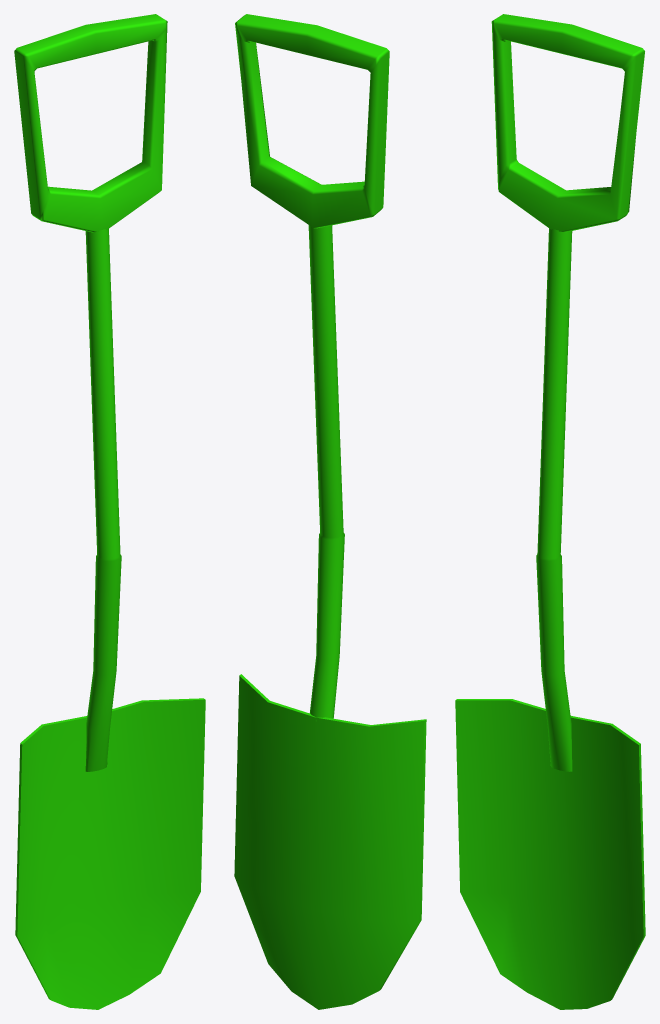
File: Shovel_02_Lod0.fbx
The picture shows the model from 3 angles, left to right: view 1: azimuth 30°, elevation 25°; view 2: azimuth 150°, elevation 25°; view 3: azimuth 330°, elevation 25°; orthographic projection.
Parts seen in each view (by area): view 1: Shovel_02_Lod0; view 2: Shovel_02_Lod0; view 3: Shovel_02_Lod0.
Part boxes in pixels (box(x1,y1,x2,y2)): Shovel_02_Lod0: box(14, 14, 205, 1009); Shovel_02_Lod0: box(234, 14, 426, 1009); Shovel_02_Lod0: box(455, 14, 645, 1009).
Bounding box in the file's own units: 31.89 × 162 × 9.46.
